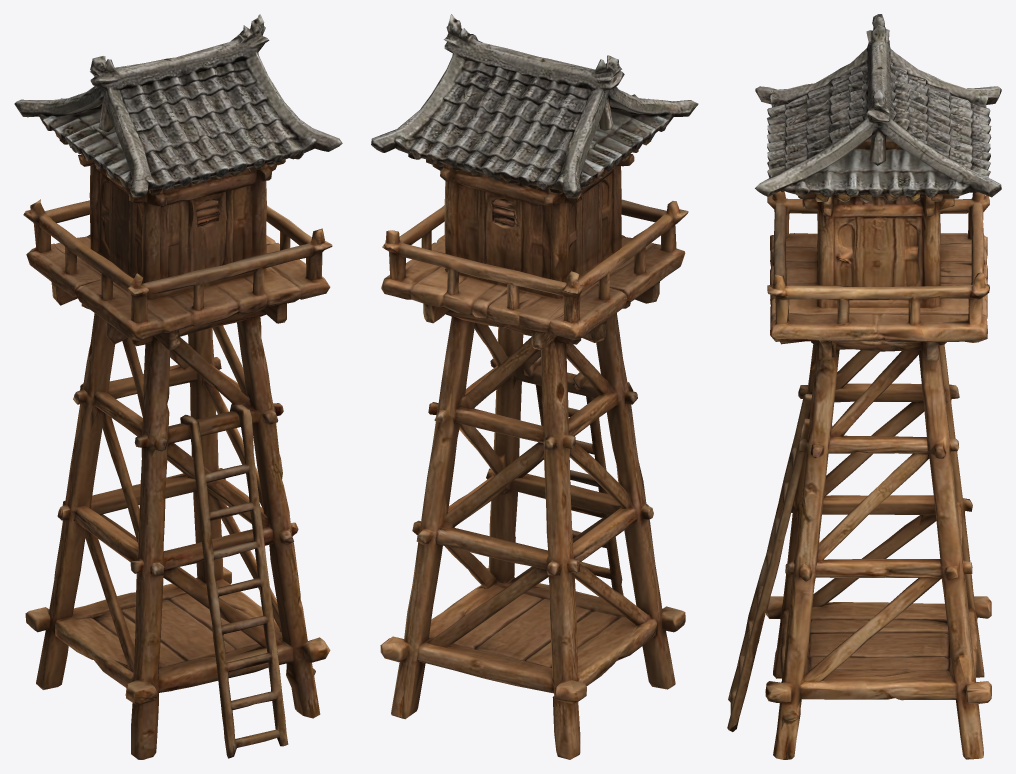
File: watchtower-mid.glb
The picture shows the model from 3 angles, left to right: view 1: azimuth 30°, elevation 25°; view 2: azimuth 150°, elevation 25°; view 3: azimuth 270°, elevation 25°; orthographic projection.
Size of the model in its own units: 0.3246 by 0.9988 by 0.373.
1 material, 1 textured.
